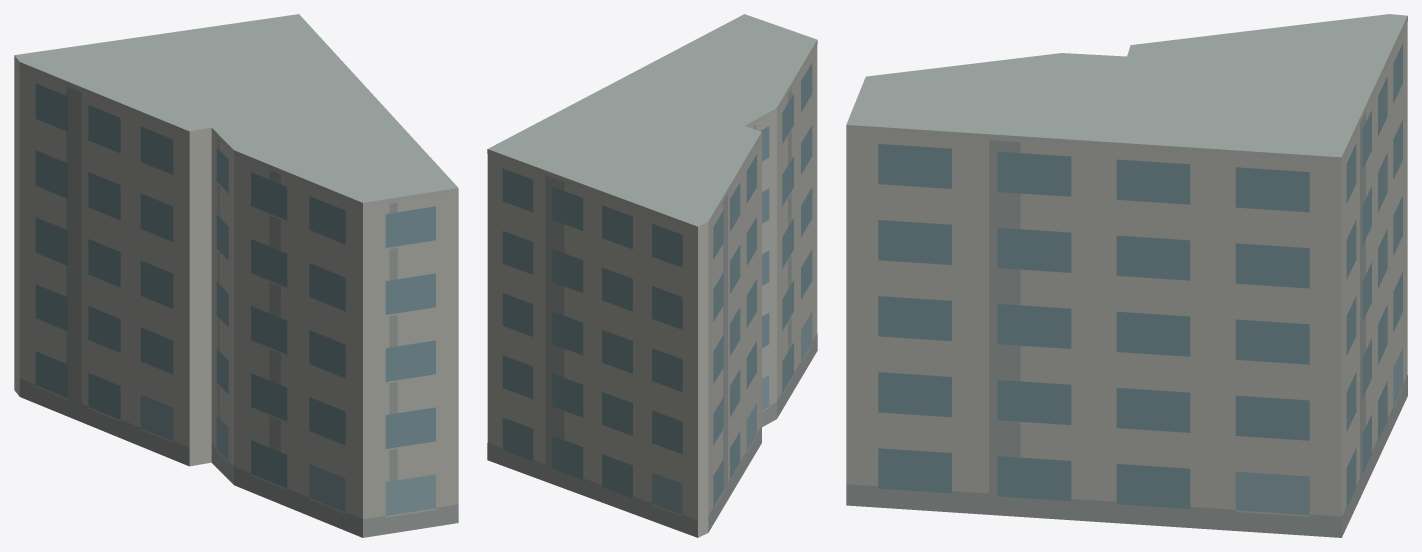
File: survey-upis-32806112.glb
3 views of the same model, side by side, from view 1: azimuth 30°, elevation 25°; view 2: azimuth 150°, elevation 25°; view 3: azimuth 270°, elevation 25° (orthographic). The views are drawn at different scales.
Parts seen in each view (by area): view 1: survey-upis-32806112.tmp; view 2: survey-upis-32806112.tmp; view 3: survey-upis-32806112.tmp.
Part boxes in pixels (x1,y1,x2,y2): survey-upis-32806112.tmp: (14,14,458,537); survey-upis-32806112.tmp: (487,14,817,537); survey-upis-32806112.tmp: (846,14,1407,537).
Bounding box in the file's own units: 12.63 × 15.63 × 20.91.
